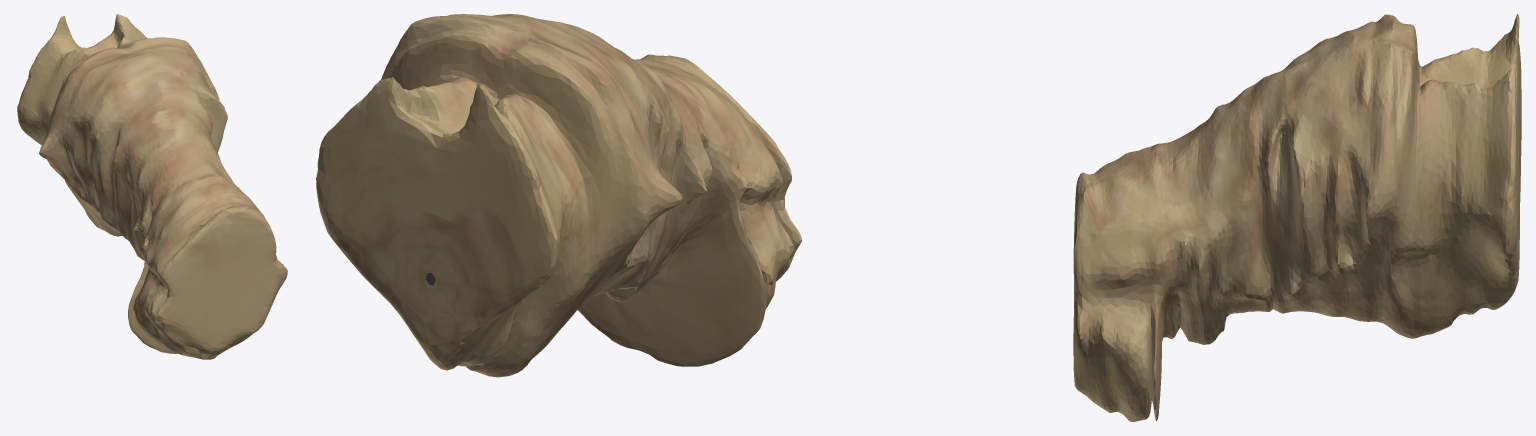
The model's file is Brainstem.obj.
3 views of the same model, side by side, from view 1: azimuth 30°, elevation 25°; view 2: azimuth 150°, elevation 25°; view 3: azimuth 270°, elevation 25° (orthographic). The views are drawn at different scales.
Visible parts, largest first — view 1: Brainstem; view 2: Brainstem; view 3: Brainstem.
Part boxes in pixels (bbox=[...]): Brainstem: bbox=[17, 14, 287, 359]; Brainstem: bbox=[316, 14, 801, 377]; Brainstem: bbox=[1073, 14, 1521, 421].
Size of the model in its own units: 210 by 172 by 179.
